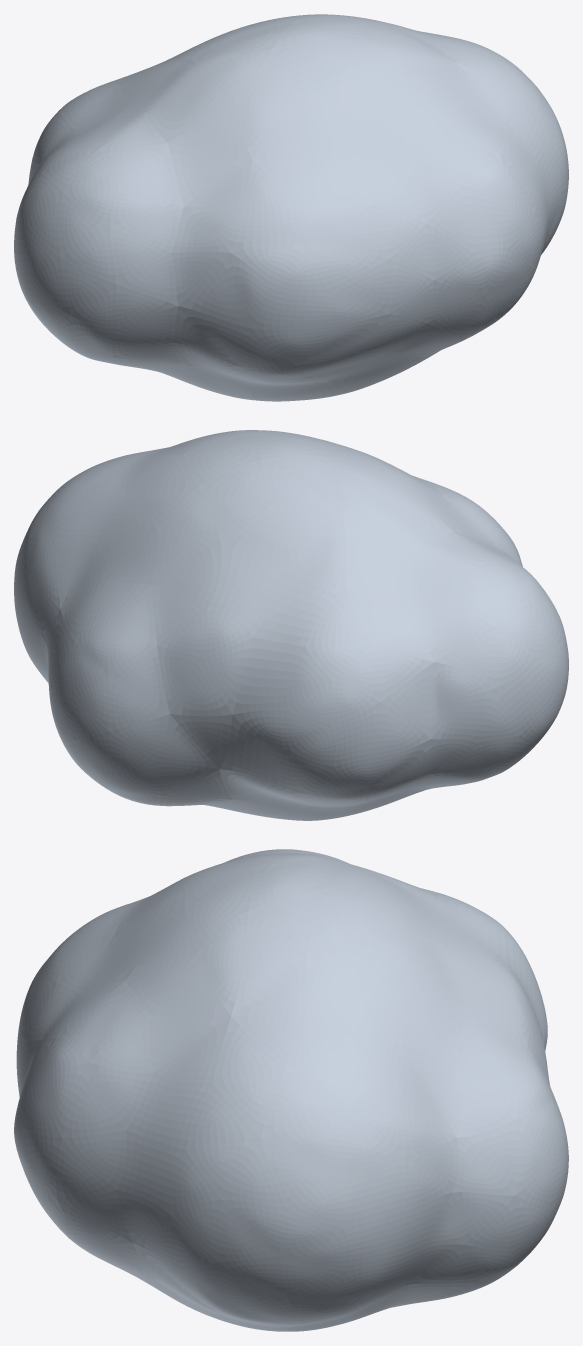
File: clouds.fbx
3 renders of one model, top to bottom at view 1: azimuth 30°, elevation 25°; view 2: azimuth 150°, elevation 25°; view 3: azimuth 270°, elevation 25°, orthographic. The views are drawn at different scales.
Parts seen in each view (by area): view 1: cloud; view 2: cloud; view 3: cloud.
Part boxes in pixels (x1,y1,x2,y2): cloud: (14, 14, 568, 401); cloud: (14, 430, 568, 820); cloud: (14, 849, 568, 1331).
Size of the model in its own units: 1.77 by 1.14 by 1.37.
